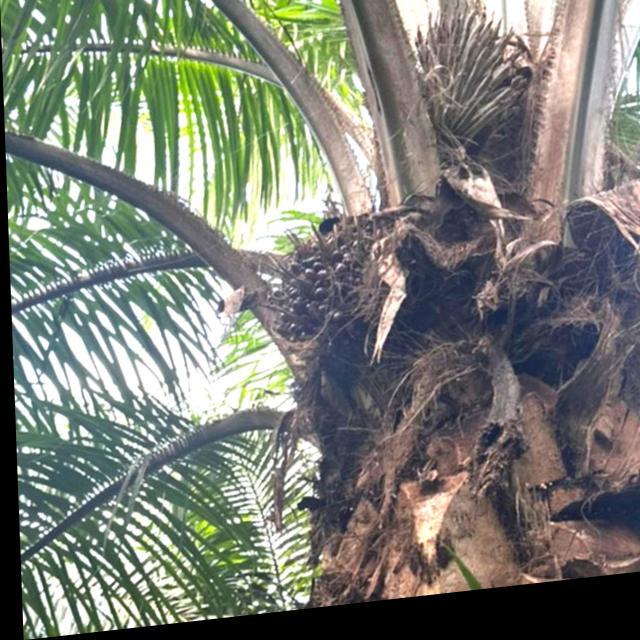ripe: (265, 218, 387, 350)
